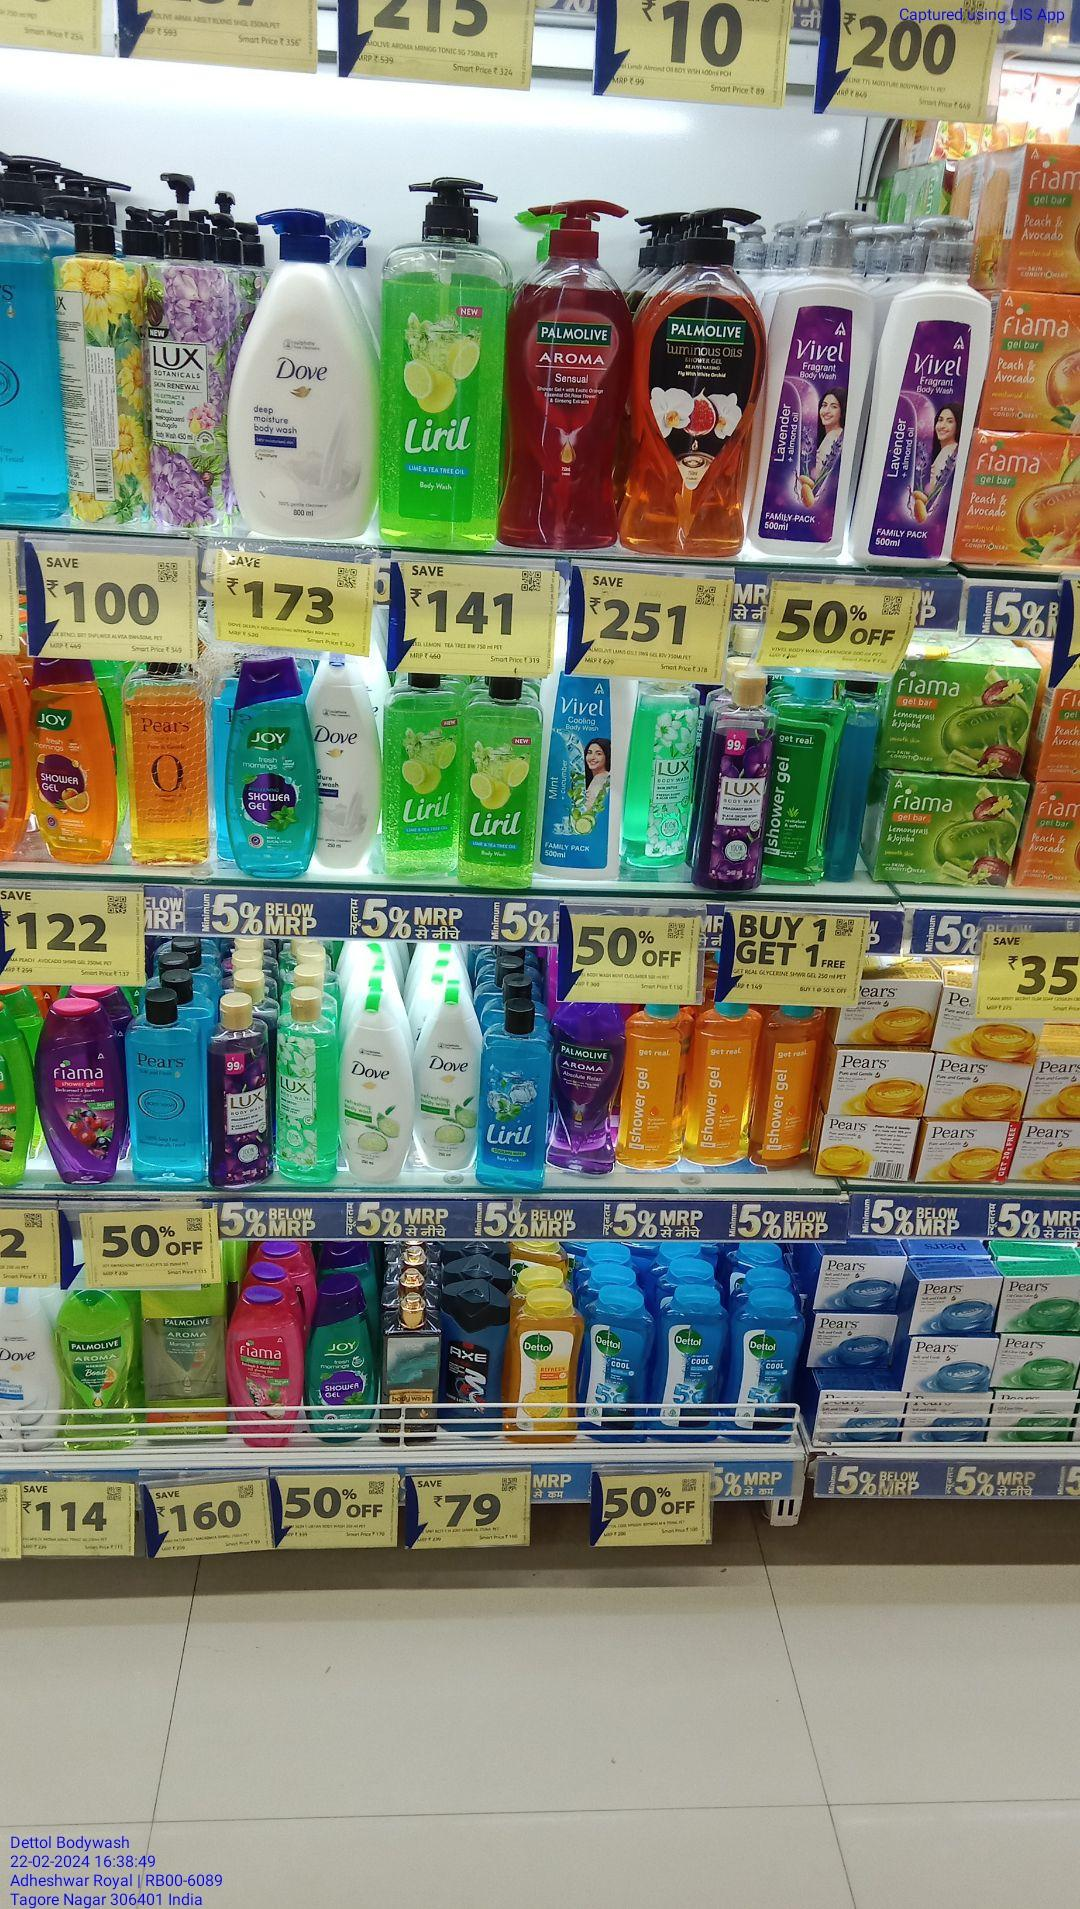Dettol_Bodywash_Cool: (721, 1288, 796, 1444), (578, 1284, 647, 1444), (651, 1281, 716, 1446)
Dettol_Bodywash_Refresh: (507, 1290, 577, 1444)
Dove_Gentle_Exfoliating_Body_Wash_250ML: (0, 1285, 64, 1451)
Dove_Refreshing_Body_Wash_250ML: (341, 986, 408, 1184), (417, 983, 478, 1170)
Fiama_Shower_Gel_Patchouli_and_Macadamia_250ML: (228, 1285, 300, 1447)
Joy_Shower_Gel_Mandarin_and_Lemongrass_250ML: (31, 656, 119, 865)
Joy_Shower_Gel_Mint_and_Eucalyptus_250ML: (227, 652, 313, 876), (307, 1268, 381, 1440)
Liril_Cooling_Mint_Body_Wash_250ML: (482, 1006, 548, 1193)
Liril_Lime_and_Tea_Tree_Oil_Body_Wash_250ML: (376, 671, 463, 876), (467, 674, 528, 885)
Lux_Black_Orchid_Scent_and_Juniper_Oil_Body_Wash_245ML: (700, 665, 763, 889), (212, 989, 274, 1183)
Lux_Body_Wash_Skin_Detox_Freesia_Scent_and_Alove_Vera_245ML: (620, 673, 688, 869), (280, 985, 337, 1188)
Palmolive_Aroma_Morning_Tonic_Shower_Gel_250ML: (68, 1289, 138, 1450)
Palmolive_Aroma_Relax_250ML: (549, 1004, 617, 1177)
Pears_Pure_Glycerin_and_Mint_Extracts_Body_Wash_250ML: (128, 987, 210, 1184)
